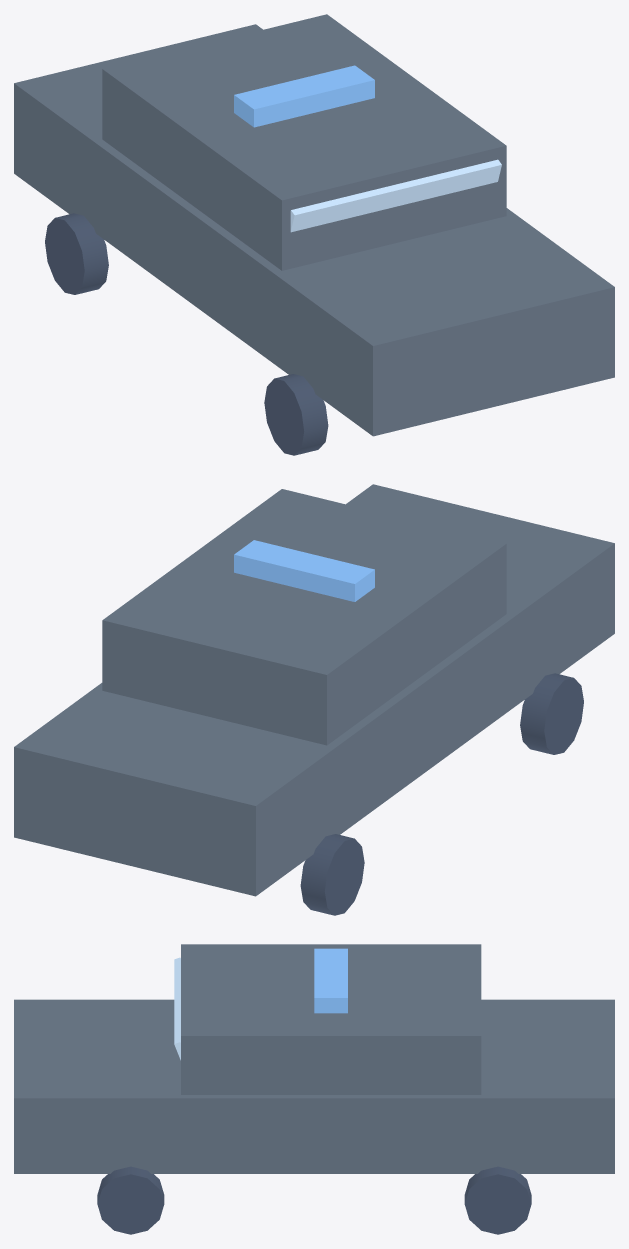
Rendered from sedan_patrol.glb.
3 renders of one model, top to bottom at view 1: azimuth 30°, elevation 25°; view 2: azimuth 150°, elevation 25°; view 3: azimuth 270°, elevation 25°, orthographic. The views are drawn at different scales.
Bounding box in the file's own units: 0.81 × 0.675 × 1.8.
